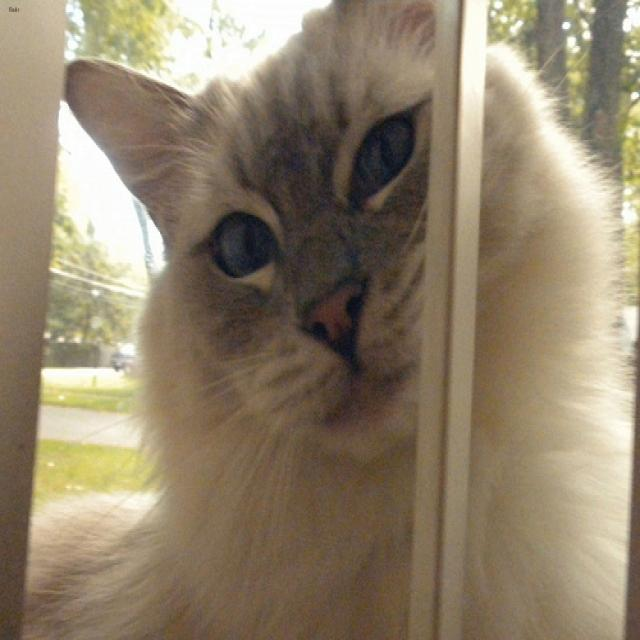Ragdoll: (62, 0, 571, 467)
